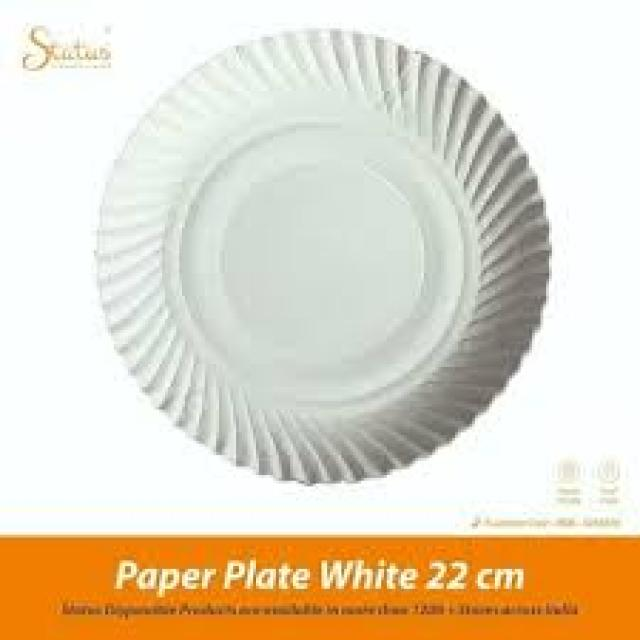Paper -Biodegradable-: (97, 30, 545, 480)
